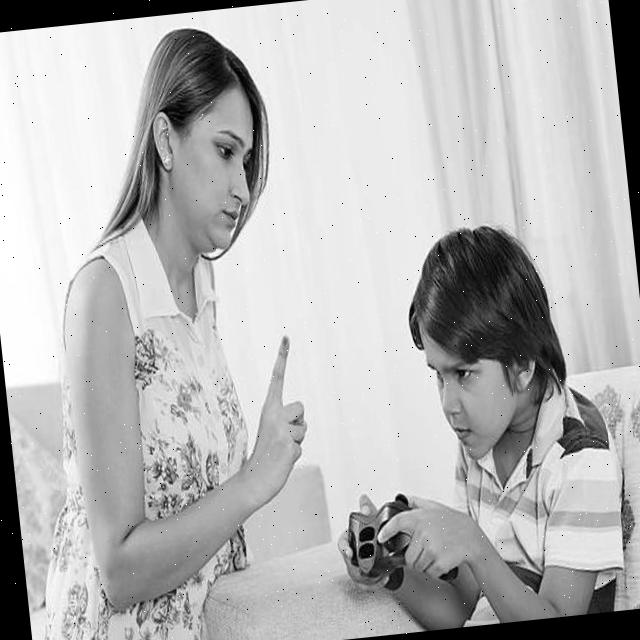Angry: (417, 305, 526, 463)
